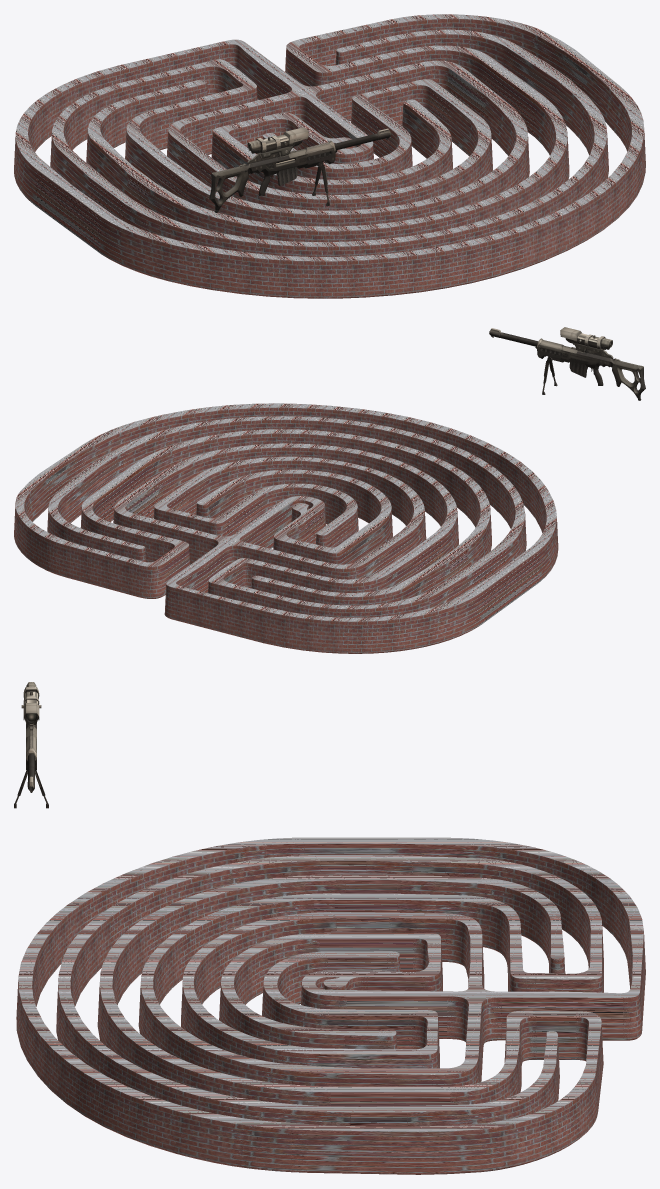
The picture shows the model from 3 angles, top to bottom: view 1: azimuth 30°, elevation 25°; view 2: azimuth 150°, elevation 25°; view 3: azimuth 270°, elevation 25°; orthographic projection. The views are drawn at different scales.
Visible parts, largest first — view 1: Conector, 3DSMesh_0_4, 3DSMesh_2_6; view 2: Conector, 3DSMesh_0_4, 3DSMesh_2_6; view 3: Conector.
Boxes of the visible parts, x1,y1,x2,y2 form: Conector: (14, 14, 645, 298); 3DSMesh_0_4: (209, 128, 391, 212); 3DSMesh_2_6: (247, 127, 308, 158); Conector: (14, 403, 558, 653); 3DSMesh_0_4: (489, 328, 645, 400); 3DSMesh_2_6: (560, 327, 612, 353); Conector: (16, 837, 645, 1174).
Bounding box in the file's own units: 54031 × 18261 × 48145.
3 materials, 2 textured.
